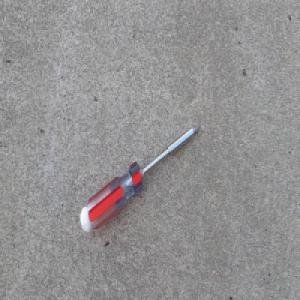Screwdriver: (79, 123, 201, 234)
